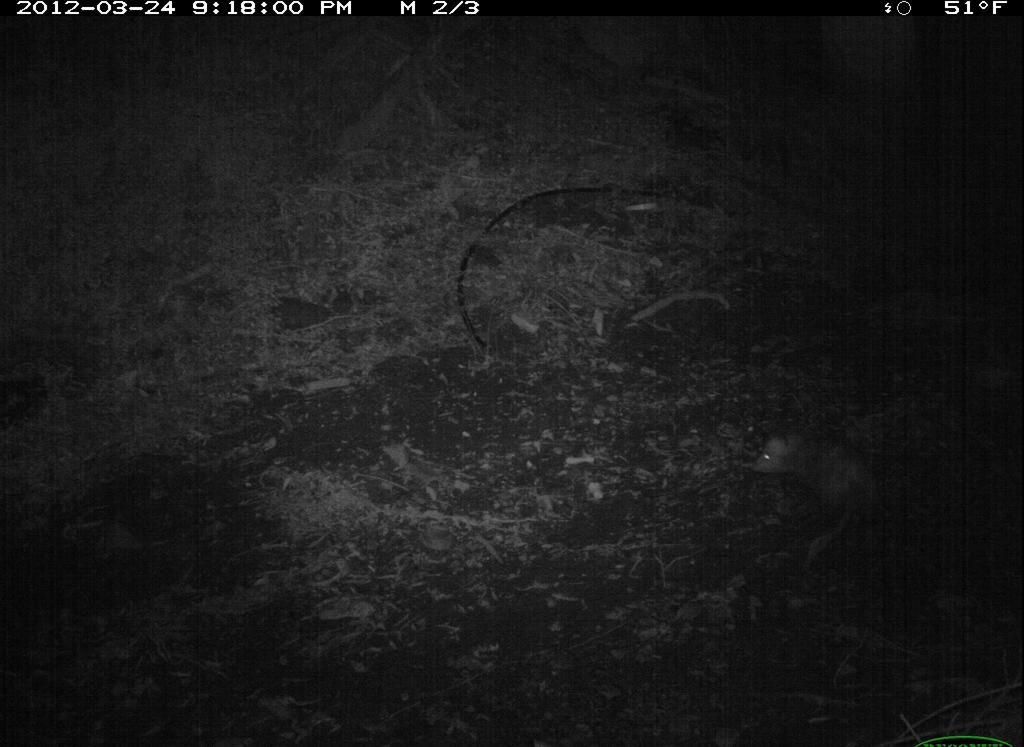opossum: (747, 428, 895, 571)
